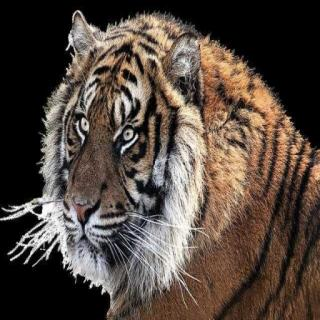Tiger: (8, 6, 320, 319)
